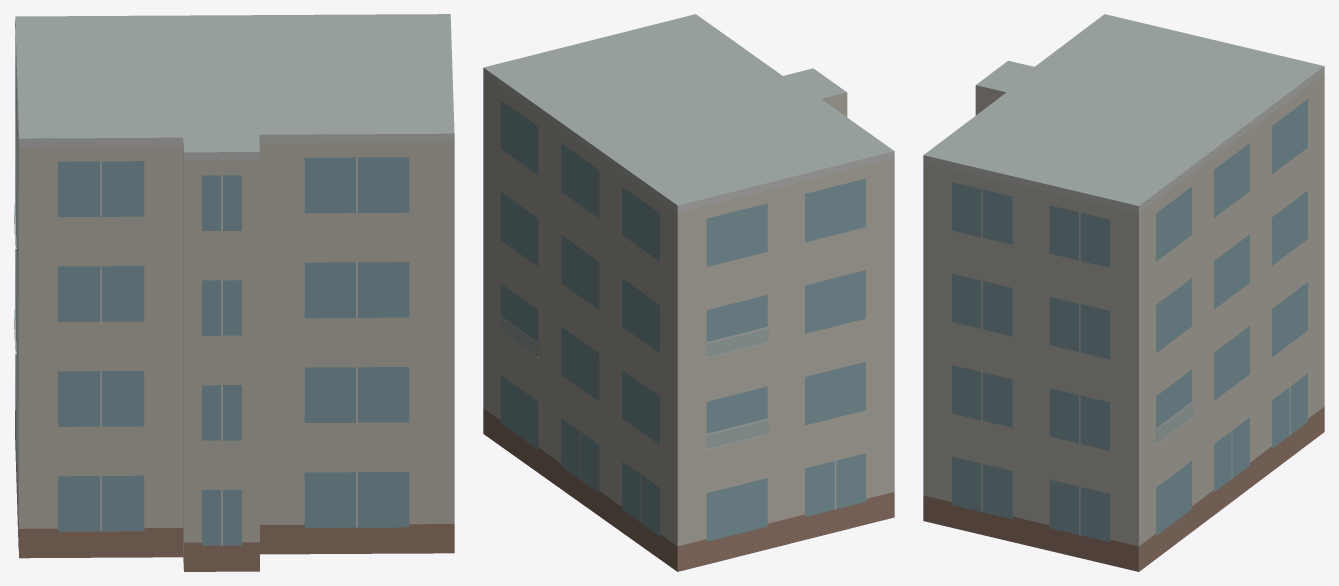
File: residential-a1a8b5f6-caf3-4b94-932c-24b7406b0b1a.glb
3 views of the same model, side by side, from view 1: azimuth 30°, elevation 25°; view 2: azimuth 150°, elevation 25°; view 3: azimuth 270°, elevation 25° (orthographic). The views are drawn at different scales.
Visible parts, largest first — view 1: residential-a1a8b5f6-caf3-4b94-932c-24b7406b0b1a.tmp; view 2: residential-a1a8b5f6-caf3-4b94-932c-24b7406b0b1a.tmp; view 3: residential-a1a8b5f6-caf3-4b94-932c-24b7406b0b1a.tmp.
Boxes of the visible parts, box(x1,y1,x2,y2) form: residential-a1a8b5f6-caf3-4b94-932c-24b7406b0b1a.tmp: box(14, 14, 454, 571); residential-a1a8b5f6-caf3-4b94-932c-24b7406b0b1a.tmp: box(483, 14, 894, 571); residential-a1a8b5f6-caf3-4b94-932c-24b7406b0b1a.tmp: box(923, 14, 1324, 571).
Bounding box in the file's own units: 13.74 × 12.2 × 12.13.
